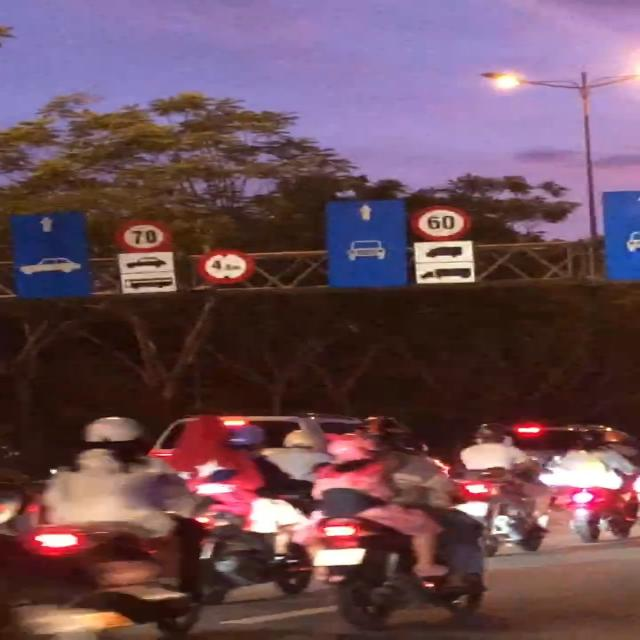Bien bao han che chieu cao: (200, 248, 264, 290)
Bien bao toc do toi da cho phep: (111, 218, 172, 253), (413, 203, 469, 240)
